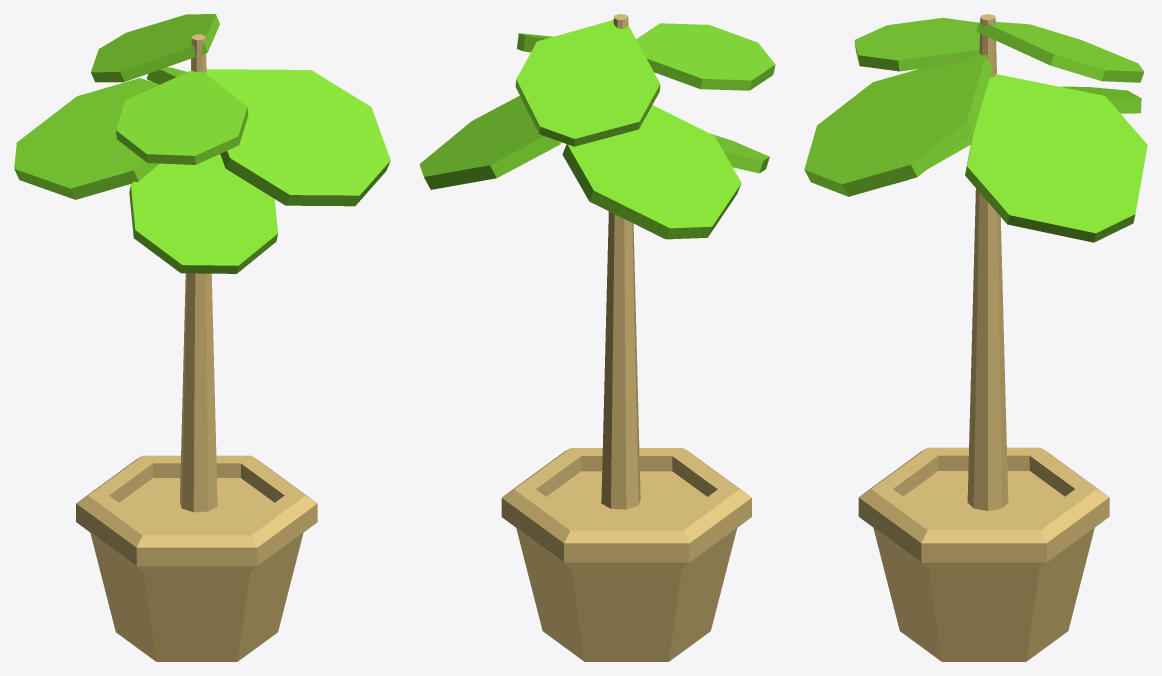
The model's file is Boompje.fbx.
3 renders of one model, left to right at view 1: azimuth 30°, elevation 25°; view 2: azimuth 150°, elevation 25°; view 3: azimuth 270°, elevation 25°, orthographic. The views are drawn at different scales.
Parts seen in each view (by area): view 1: Bloempot; view 2: Bloempot; view 3: Bloempot.
Boxes of the visible parts, x1=… form: Bloempot: x1=14, y1=14, x2=390, y2=661; Bloempot: x1=419, y1=14, x2=775, y2=661; Bloempot: x1=804, y1=14, x2=1147, y2=661.
Size of the model in its own units: 58.59 by 119 by 60.18.
